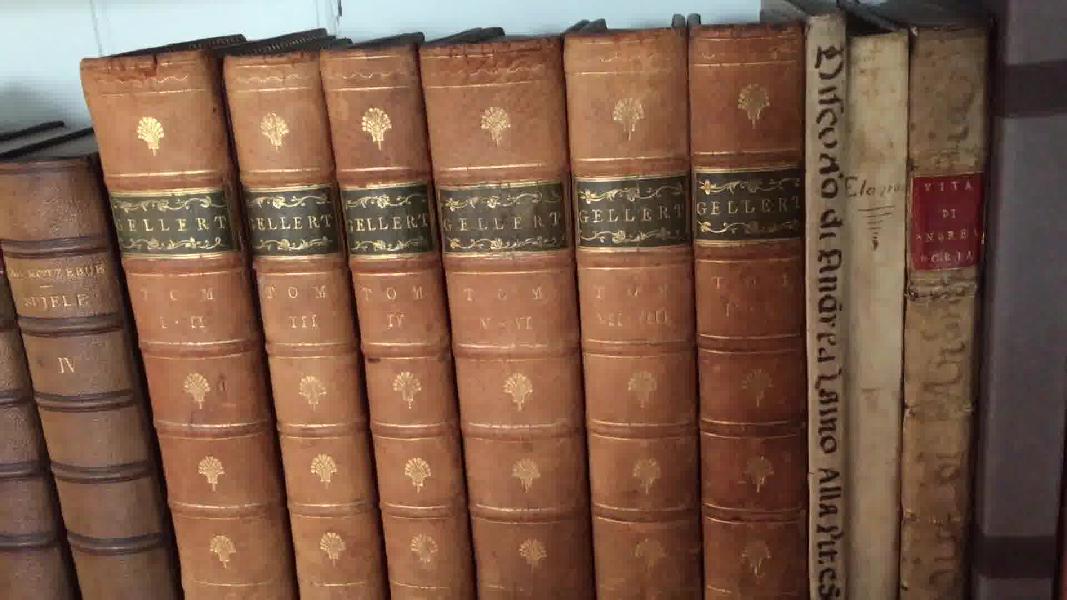Aa6-18_23: (70, 5, 808, 600)
Aa6-24: (800, 5, 859, 600)
Aa6-25: (842, 23, 905, 600)
Aa6-26: (894, 1, 979, 593)
